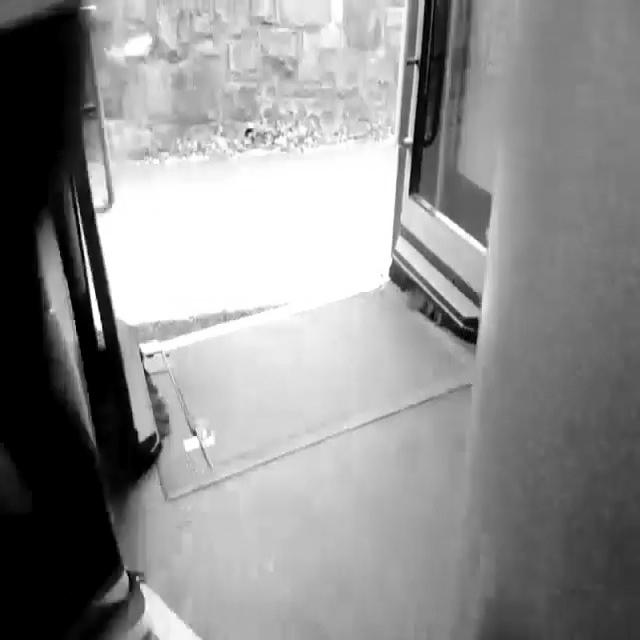bus-door: (56, 6, 512, 409)
